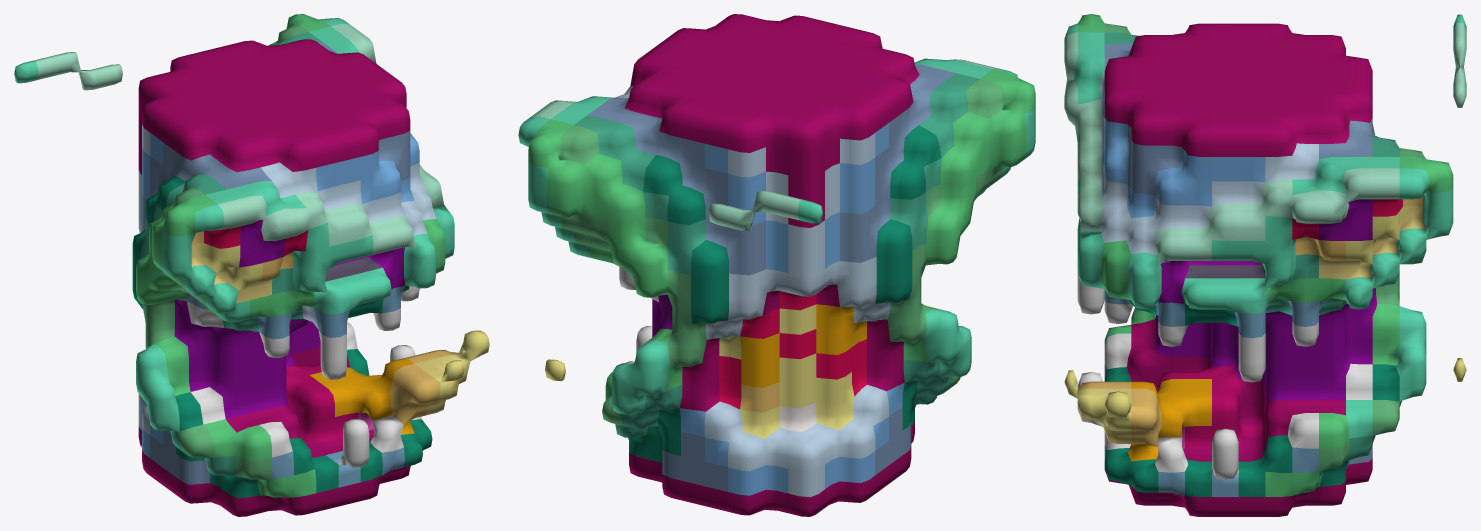
3 views of the same model, side by side, from view 1: azimuth 30°, elevation 25°; view 2: azimuth 150°, elevation 25°; view 3: azimuth 270°, elevation 25° (orthographic). The views are drawn at different scales.
Size of the model in its own units: 1.5 by 1.6 by 1.5.
